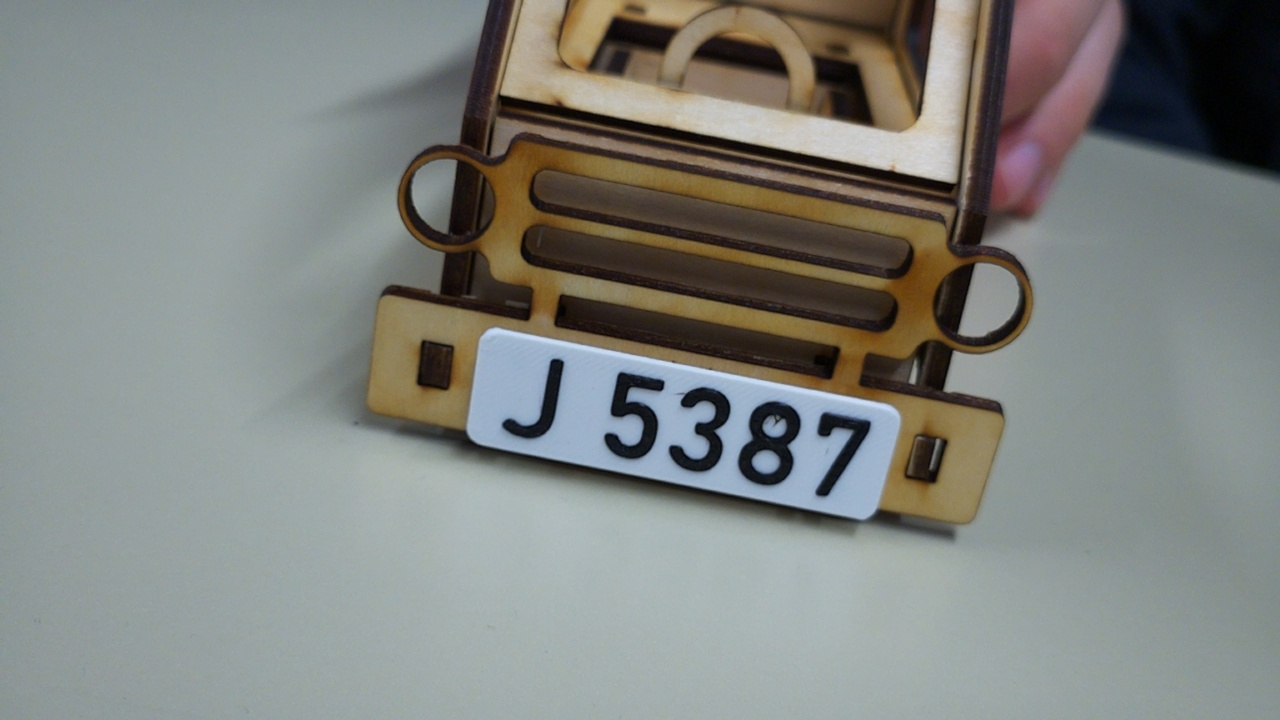license_plate: (465, 324, 904, 525)
